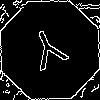Y: (25, 25, 74, 81)
